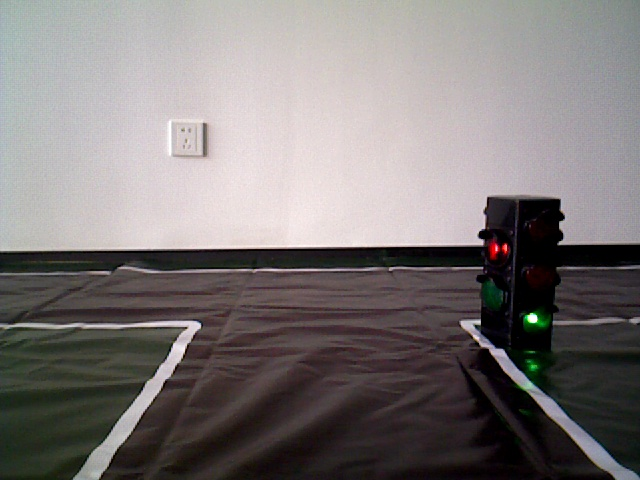green: (485, 197, 551, 342)
